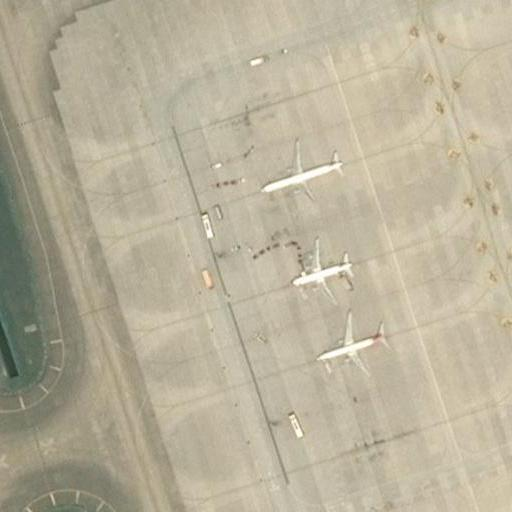Aircraft: (251, 138, 350, 204), (313, 314, 391, 374), (283, 237, 358, 299)
